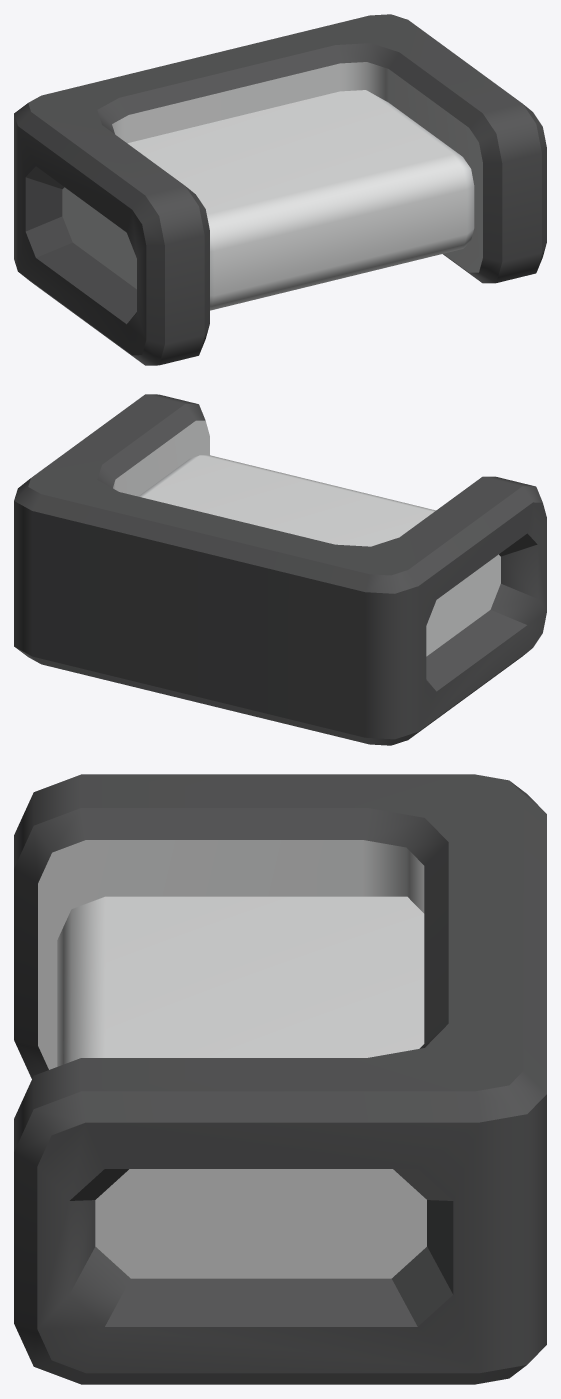
File: Mini_sofa_007.fbx
3 renders of one model, top to bottom at view 1: azimuth 30°, elevation 25°; view 2: azimuth 150°, elevation 25°; view 3: azimuth 270°, elevation 25°, orthographic. The views are drawn at different scales.
Parts seen in each view (by area): view 1: Mini_sofa_007; view 2: Mini_sofa_007; view 3: Mini_sofa_007.
Part boxes in pixels (x1,y1,x2,y2): Mini_sofa_007: [14, 14, 546, 365]; Mini_sofa_007: [14, 394, 546, 745]; Mini_sofa_007: [14, 774, 546, 1384].
Bounding box in the file's own units: 128 × 85.46 × 51.87.
